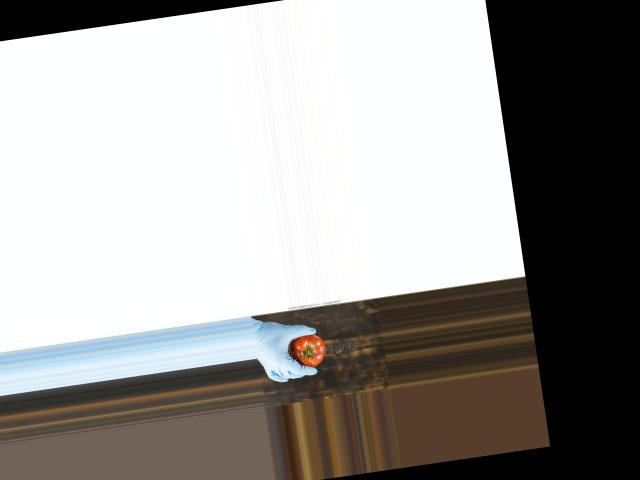tomato: (288, 332, 328, 369)
